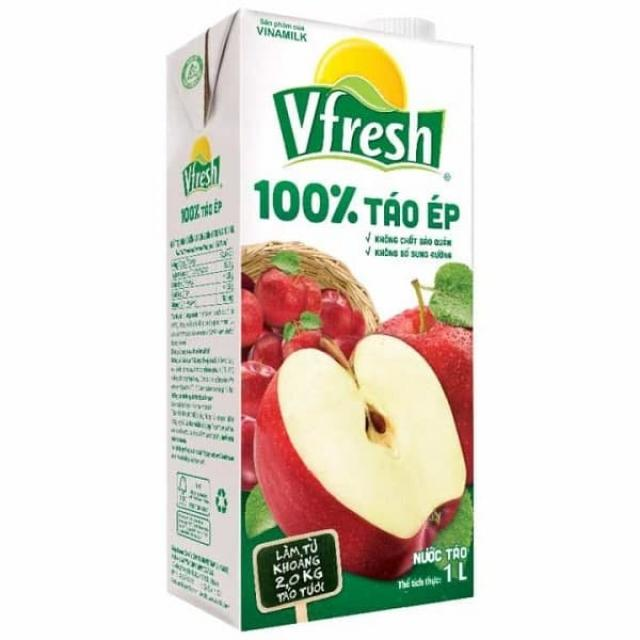non_white_jug: (154, 6, 484, 621)
